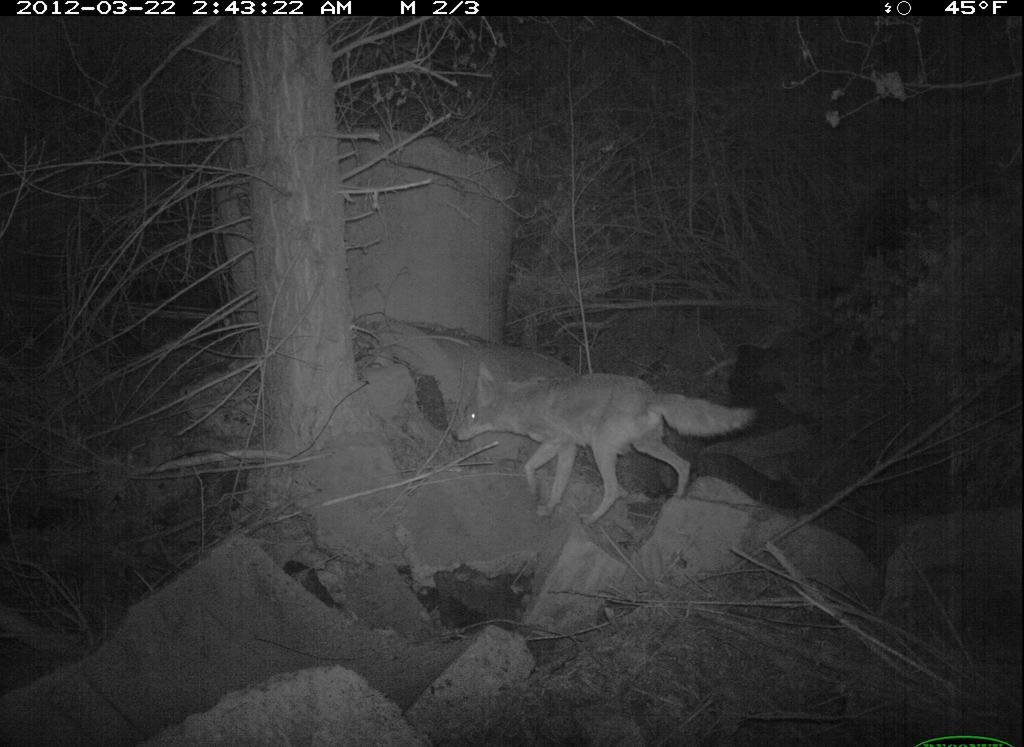coyote: (461, 365, 757, 529)
